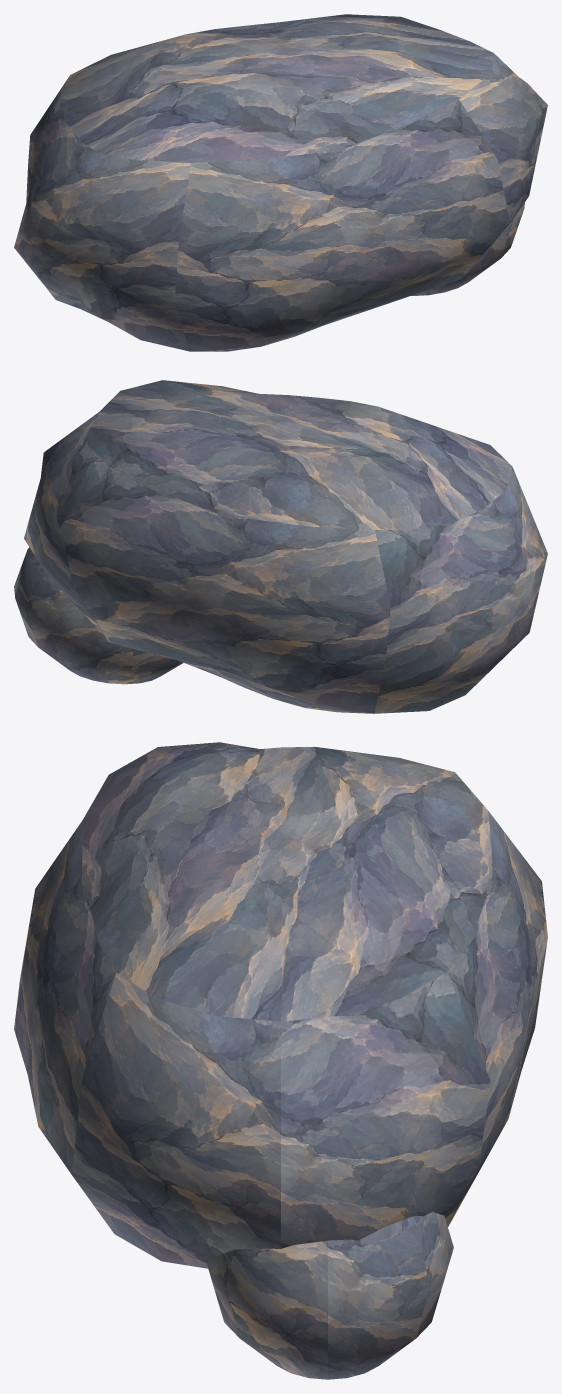
File: NaturalRock_04.fbx
3 renders of one model, top to bottom at view 1: azimuth 30°, elevation 25°; view 2: azimuth 150°, elevation 25°; view 3: azimuth 270°, elevation 25°, orthographic. The views are drawn at different scales.
Visible parts, largest first — view 1: NaturalRock_04.001; view 2: NaturalRock_04.001; view 3: NaturalRock_04.001.
Boxes of the visible parts, x1=… form: NaturalRock_04.001: x1=14, y1=14, x2=547, y2=351; NaturalRock_04.001: x1=14, y1=380, x2=547, y2=713; NaturalRock_04.001: x1=14, y1=742, x2=547, y2=1379.
Size of the model in its own units: 357 by 199 by 227.
1 material, 1 textured.
